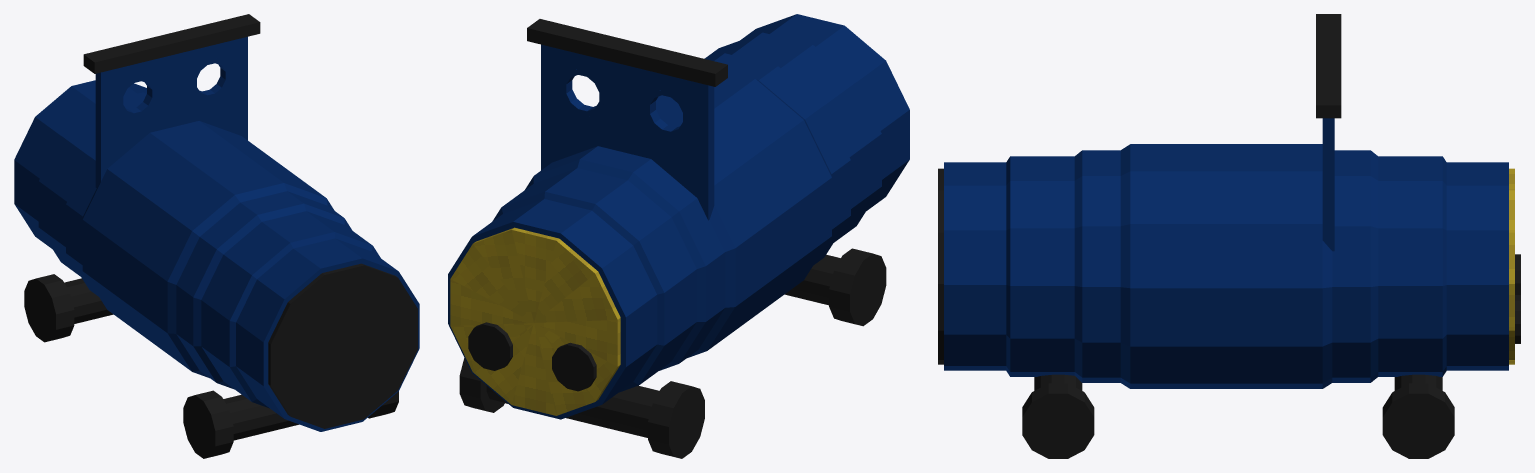
Rendered from scotrail_planter_front.obj.
The picture shows the model from 3 angles, left to right: view 1: azimuth 30°, elevation 25°; view 2: azimuth 150°, elevation 25°; view 3: azimuth 270°, elevation 25°; orthographic projection. The views are drawn at different scales.
Parts seen in each view (by area): view 1: cylinder, cube, cone, tube; view 2: cylinder, cube, cone, tube; view 3: cylinder, cone, cube.
Part boxes in pixels (left/top/right/bottom): cylinder: left=14, top=80, right=419, bottom=458; cube: left=83, top=14, right=260, bottom=187; cone: left=82, top=182, right=380, bottom=408; tube: left=119, top=59, right=229, bottom=117; cylinder: left=448, top=14, right=909, bottom=458; cube: left=527, top=19, right=727, bottom=220; cone: left=492, top=79, right=831, bottom=392; tube: left=562, top=70, right=687, bottom=136; cylinder: left=938, top=144, right=1520, bottom=458; cone: left=1006, top=144, right=1446, bottom=388; cube: left=1316, top=14, right=1341, bottom=251.
Size of the model in its own units: 0.625 by 1 by 1.52.
Materials: 3 (3 with a texture image).
